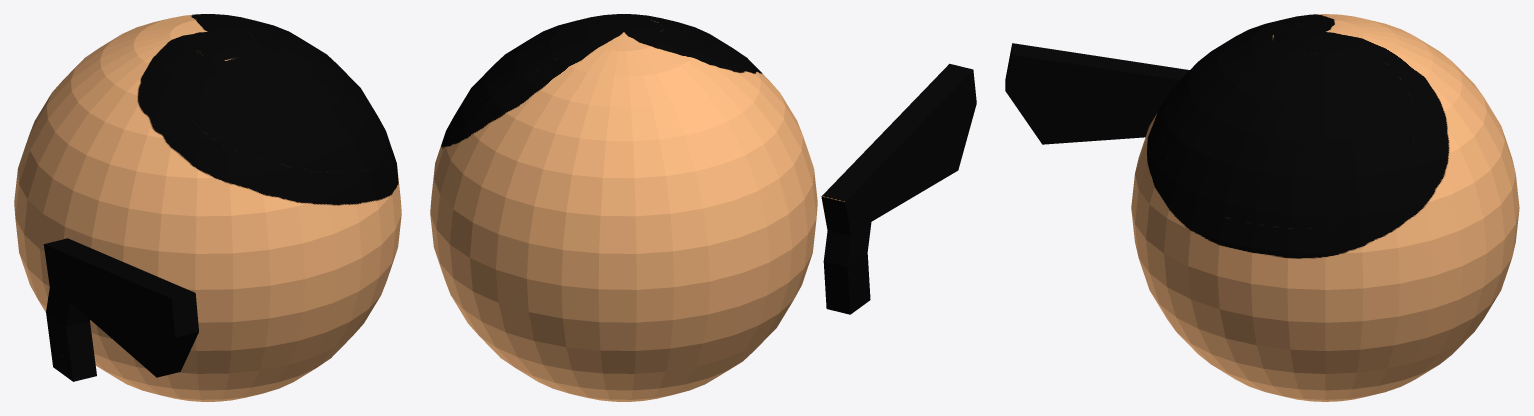
The model's file is player.obj.
3 renders of one model, left to right at view 1: azimuth 30°, elevation 25°; view 2: azimuth 150°, elevation 25°; view 3: azimuth 270°, elevation 25°, orthographic.
Parts seen in each view (by area): view 1: 立方体; view 2: 立方体; view 3: 立方体.
Part boxes in pixels (x1,y1,x2,y2): 立方体: (14, 14, 401, 401); 立方体: (430, 14, 976, 401); 立方体: (1005, 14, 1519, 401).
Bounding box in the file's own units: 2.54 × 2.37 × 3.13.
Materials: 2 (2 with a texture image).
